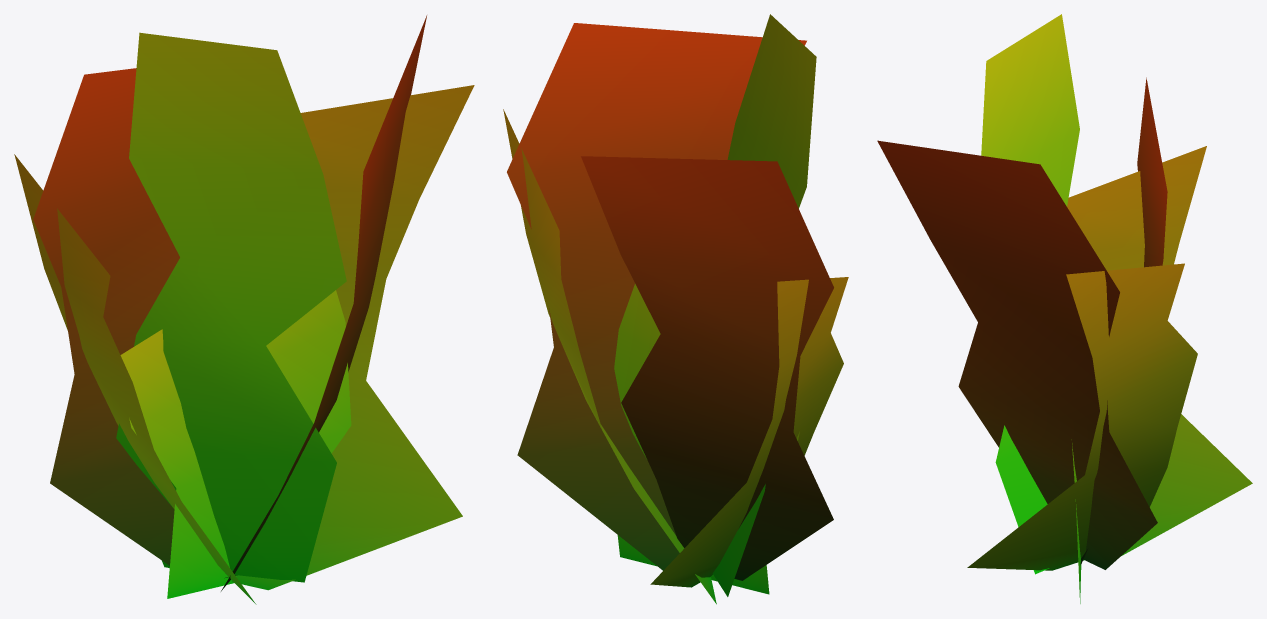
Rendered from Var8Hi1.fbx.
The picture shows the model from 3 angles, left to right: view 1: azimuth 30°, elevation 25°; view 2: azimuth 150°, elevation 25°; view 3: azimuth 270°, elevation 25°; orthographic projection. The views are drawn at different scales.
Parts seen in each view (by area): view 1: bend1; view 2: bend1; view 3: bend1.
Part boxes in pixels (x1,y1,x2,y2): bend1: (14,15,474,604); bend1: (503,14,848,604); bend1: (877,14,1252,603).
Bounding box in the file's own units: 1.27 × 1.77 × 1.19.
